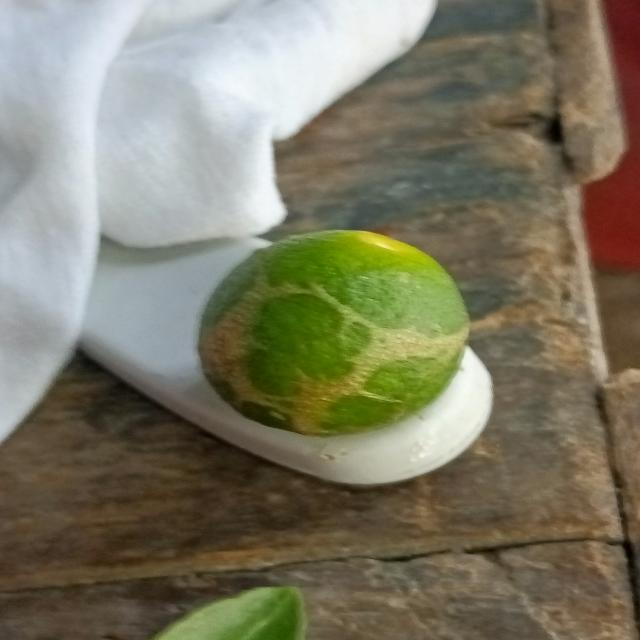thrips: (196, 227, 472, 439)
